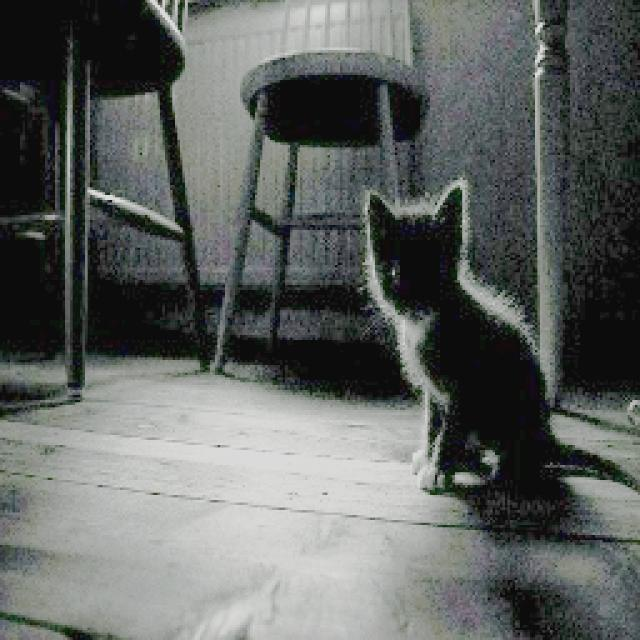cat: (357, 177, 640, 494)
